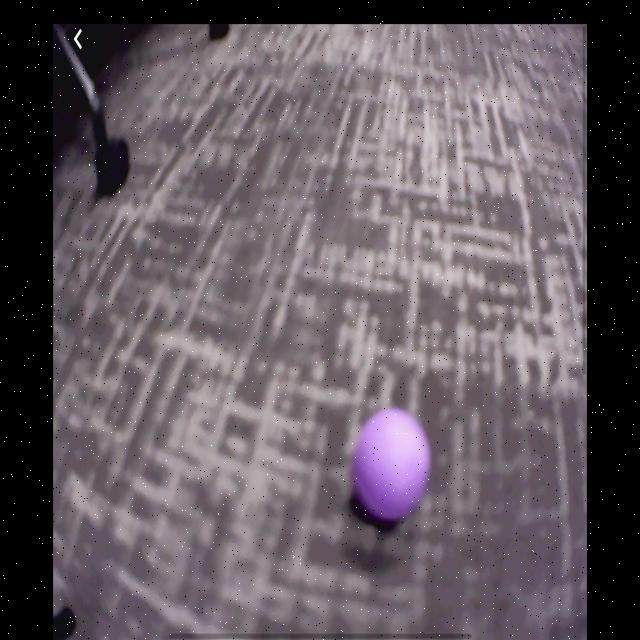ball: (349, 406, 432, 524)
